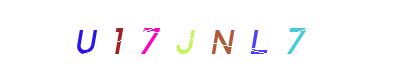1: (110, 0, 190, 80)
7: (130, 0, 210, 80), (256, 0, 336, 80)
J: (147, 0, 227, 80)
L: (157, 0, 237, 80)
N: (149, 0, 229, 80)
U: (110, 0, 190, 80)
